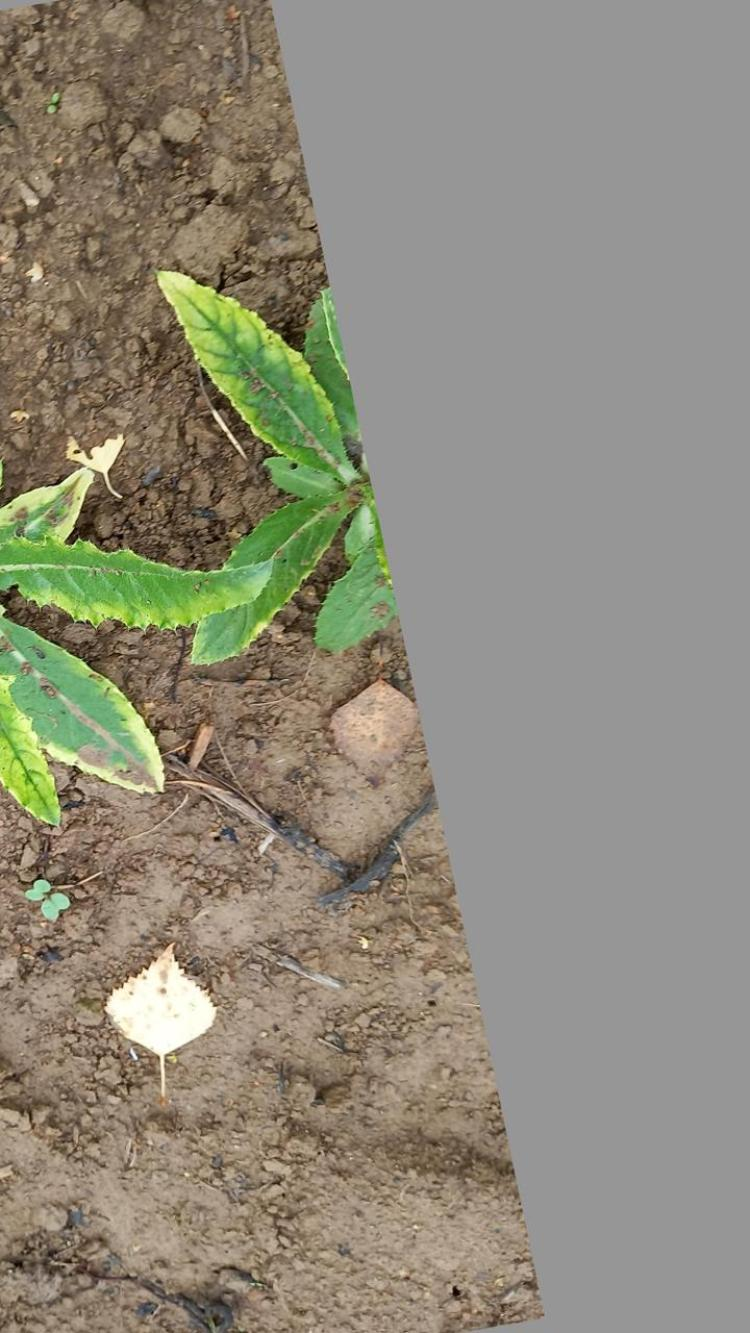bodyak: (0, 467, 273, 835)
